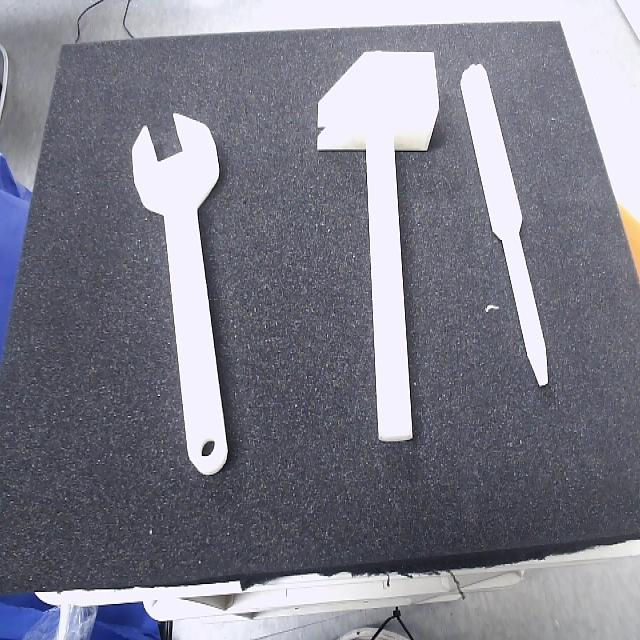Driver: (461, 64, 549, 388)
Hammer: (317, 52, 439, 445)
Spanner: (130, 113, 230, 479)
